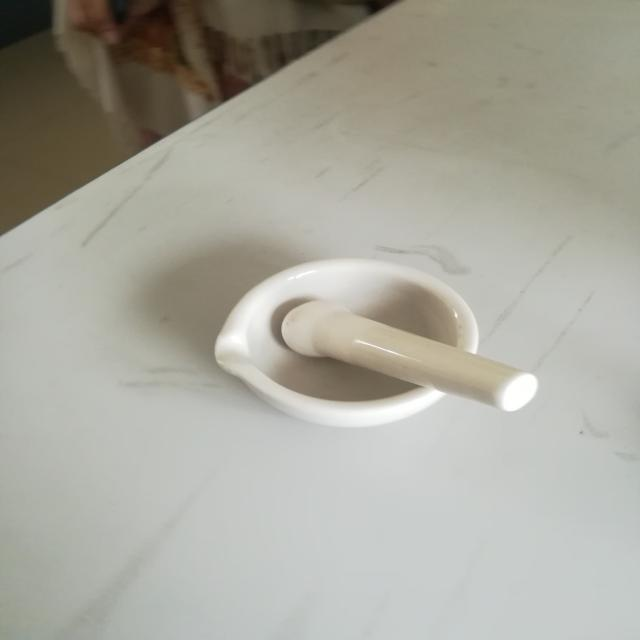Porcelain_Mortar Pestle: (155, 207, 557, 462)
